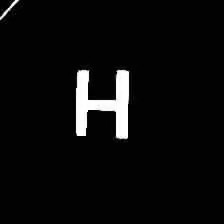LTR_H: (68, 60, 133, 146)
